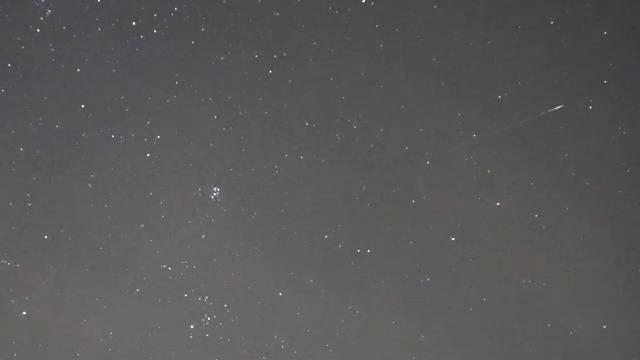meteorite: (472, 95, 569, 149)
